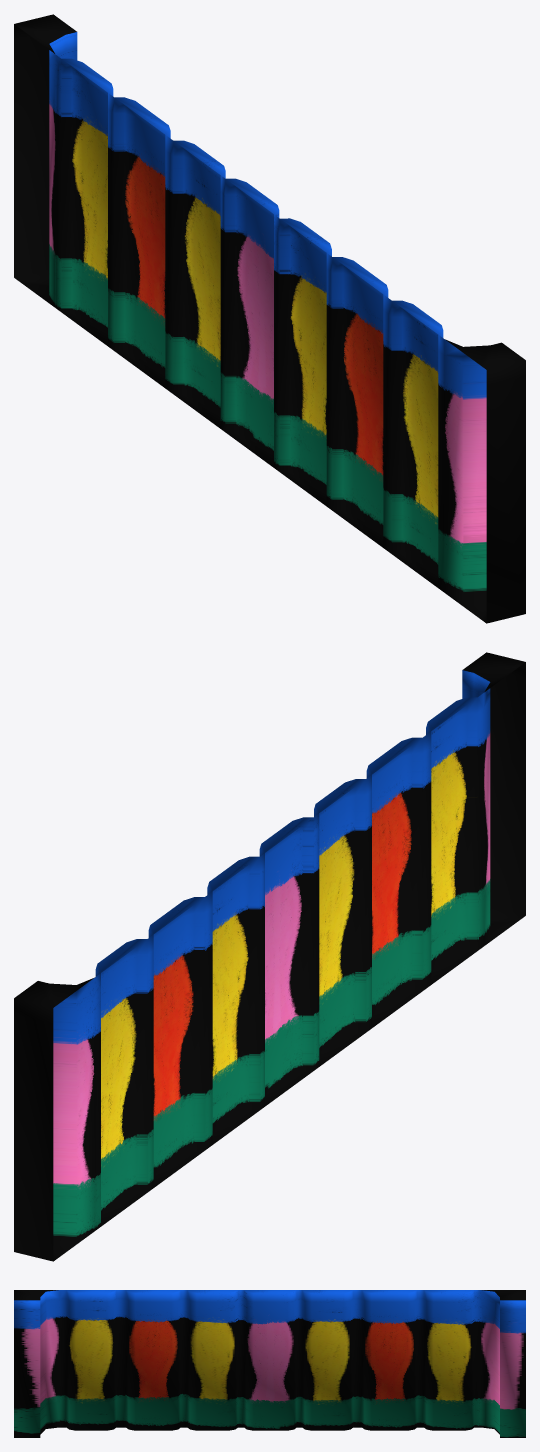
Rendered from Frame 25.001.fbx.
3 renders of one model, top to bottom at view 1: azimuth 30°, elevation 25°; view 2: azimuth 150°, elevation 25°; view 3: azimuth 270°, elevation 25°, orthographic. The views are drawn at different scales.
Parts seen in each view (by area): view 1: Frame 25.001_Baked; view 2: Frame 25.001_Baked; view 3: Frame 25.001_Baked.
Boxes of the visible parts, x1,y1,x2,y2 form: Frame 25.001_Baked: (14, 14, 525, 623); Frame 25.001_Baked: (14, 652, 525, 1261); Frame 25.001_Baked: (14, 1290, 525, 1437).
Bounding box in the file's own units: 28.91 × 178 × 601.
Materials: 1 (1 with a texture image).
